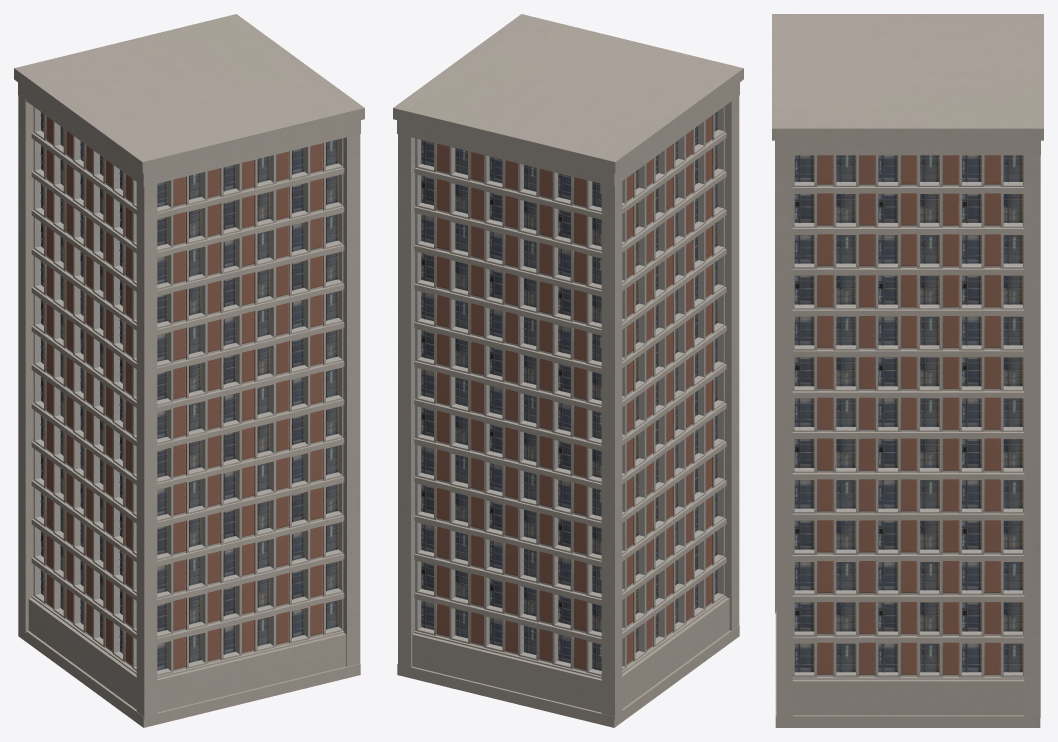
File: building_01.glb
3 renders of one model, left to right at view 1: azimuth 30°, elevation 25°; view 2: azimuth 150°, elevation 25°; view 3: azimuth 270°, elevation 25°, orthographic. The views are drawn at different scales.
Visible parts, largest first — view 1: Cube_0; view 2: Cube_0; view 3: Cube_0.
Boxes of the visible parts, bbox=[...] form: Cube_0: bbox=[14, 14, 364, 727]; Cube_0: bbox=[393, 14, 743, 727]; Cube_0: bbox=[772, 14, 1043, 727].
Bounding box in the file's own units: 3.25 × 7.92 × 3.25.
2 materials, 2 textured.
